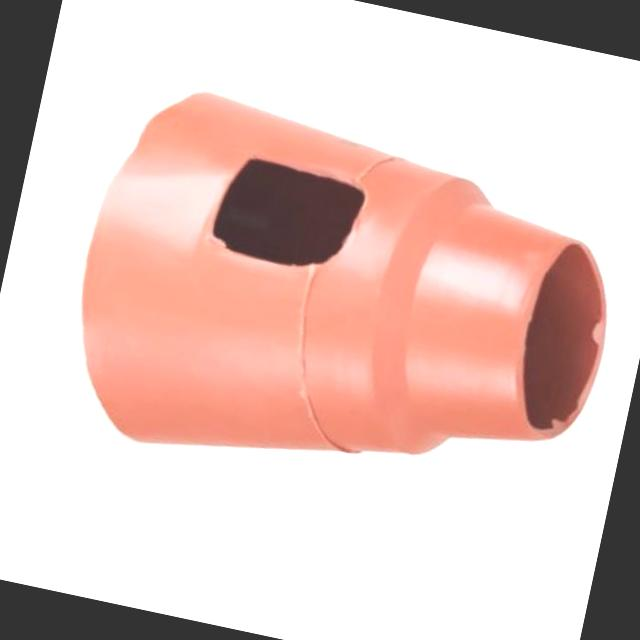cone: (0, 3, 640, 584)
